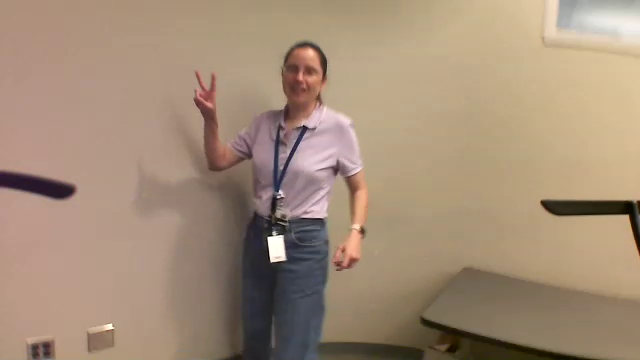peace: (187, 62, 222, 117)
